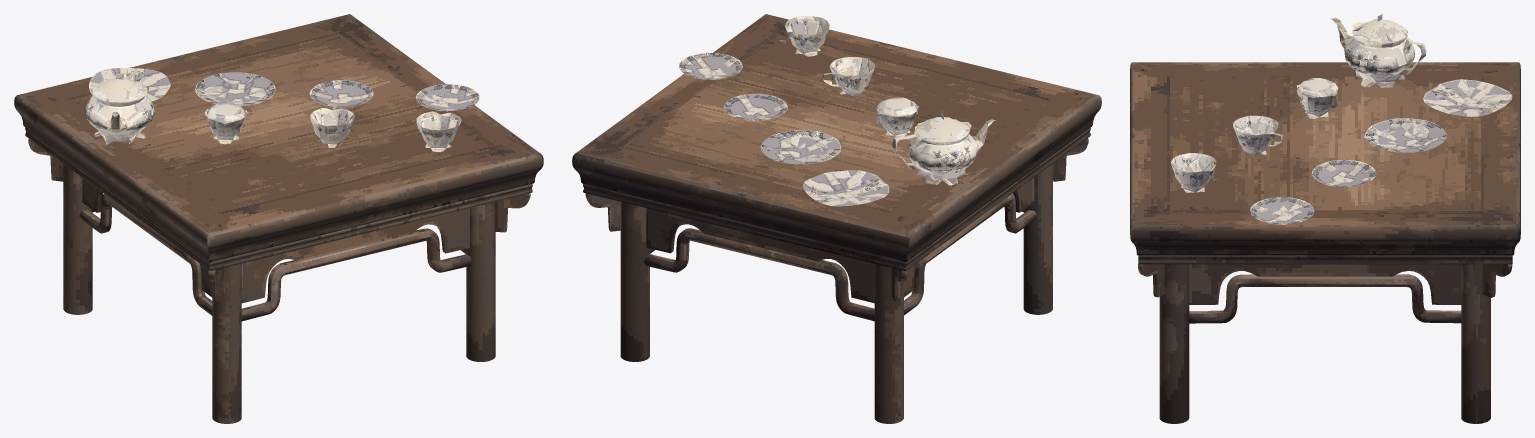
Rendered from teatable.glb.
3 views of the same model, side by side, from view 1: azimuth 30°, elevation 25°; view 2: azimuth 150°, elevation 25°; view 3: azimuth 270°, elevation 25° (orthographic).
Parts seen in each view (by area): view 1: mesh_q (×2); view 2: mesh_q (×2); view 3: mesh_q (×2).
Part boxes in pixels (bbox=[...]): mesh_q (×2): bbox=[14, 14, 543, 423]; mesh_q (×2): bbox=[572, 14, 1101, 423]; mesh_q (×2): bbox=[1130, 14, 1520, 423].
Bounding box in the file's own units: 0.8609 × 0.65 × 0.8379.
2 materials, 2 textured.
